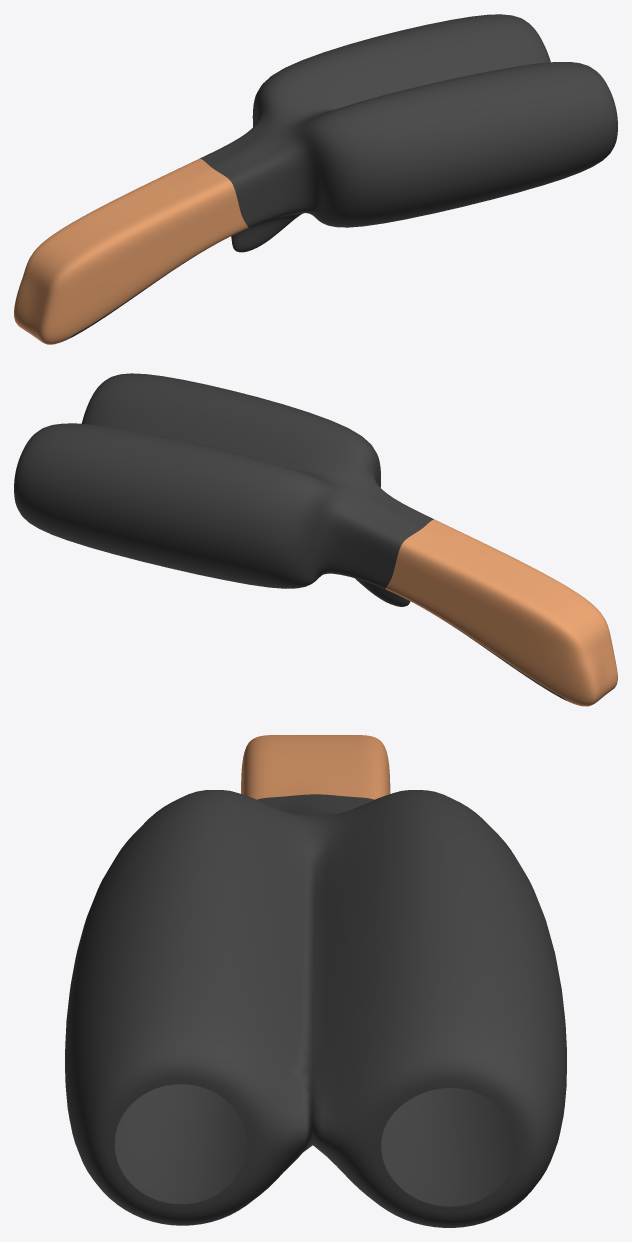
File: cifteplaceholder.fbx
The picture shows the model from 3 angles, top to bottom: view 1: azimuth 30°, elevation 25°; view 2: azimuth 150°, elevation 25°; view 3: azimuth 270°, elevation 25°; orthographic projection. The views are drawn at different scales.
Visible parts, largest first — view 1: Cube; view 2: Cube; view 3: Cube.
Part boxes in pixels (left/top/right/bottom): Cube: left=14, top=14, right=617, bottom=344; Cube: left=14, top=373, right=617, bottom=706; Cube: left=65, top=735, right=566, bottom=1227.
Size of the model in its own units: 73.15 by 23.47 by 29.54.
